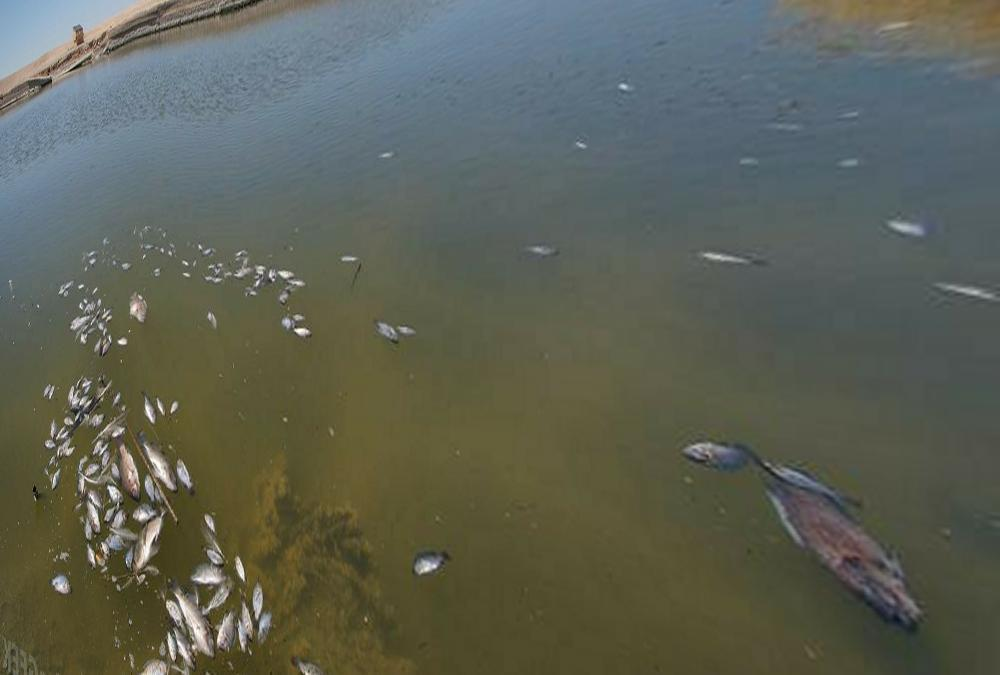Dead Animals Pollution: (46, 216, 333, 671)
